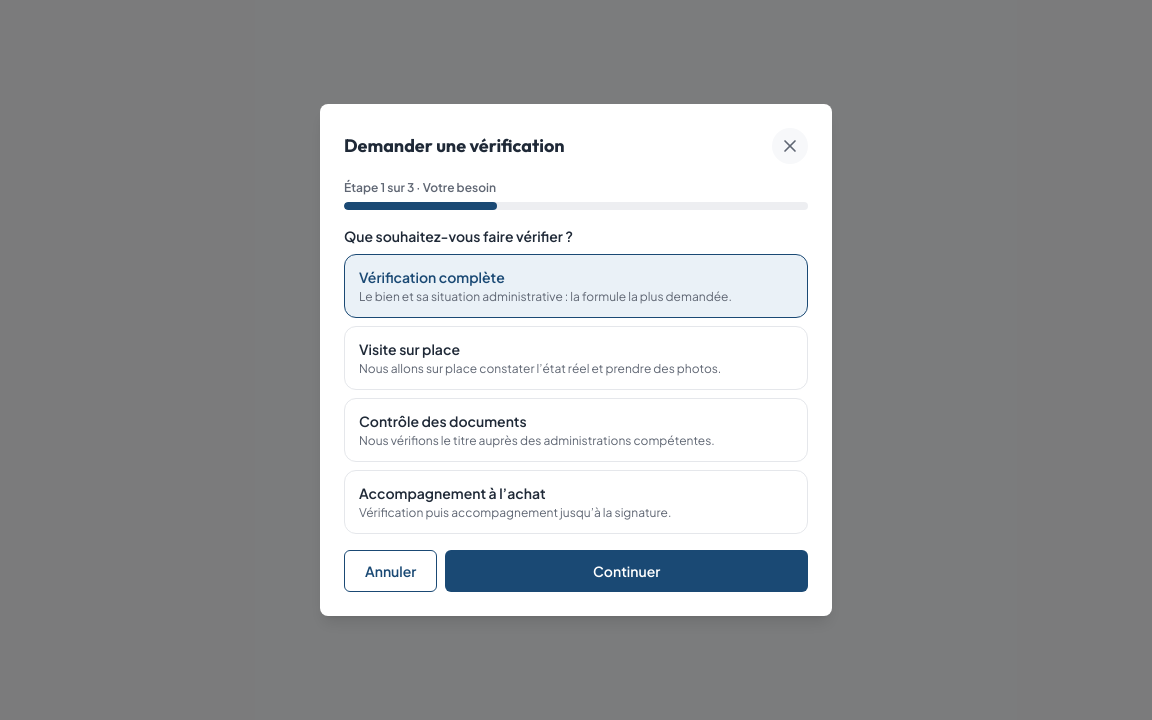
Test case: NewMissionModal (assistant en trois étapes) › permet de revenir en arrière sans perdre la saisie
Click the button "Continuer". click: (627, 571)
box: [445,550,808,592]
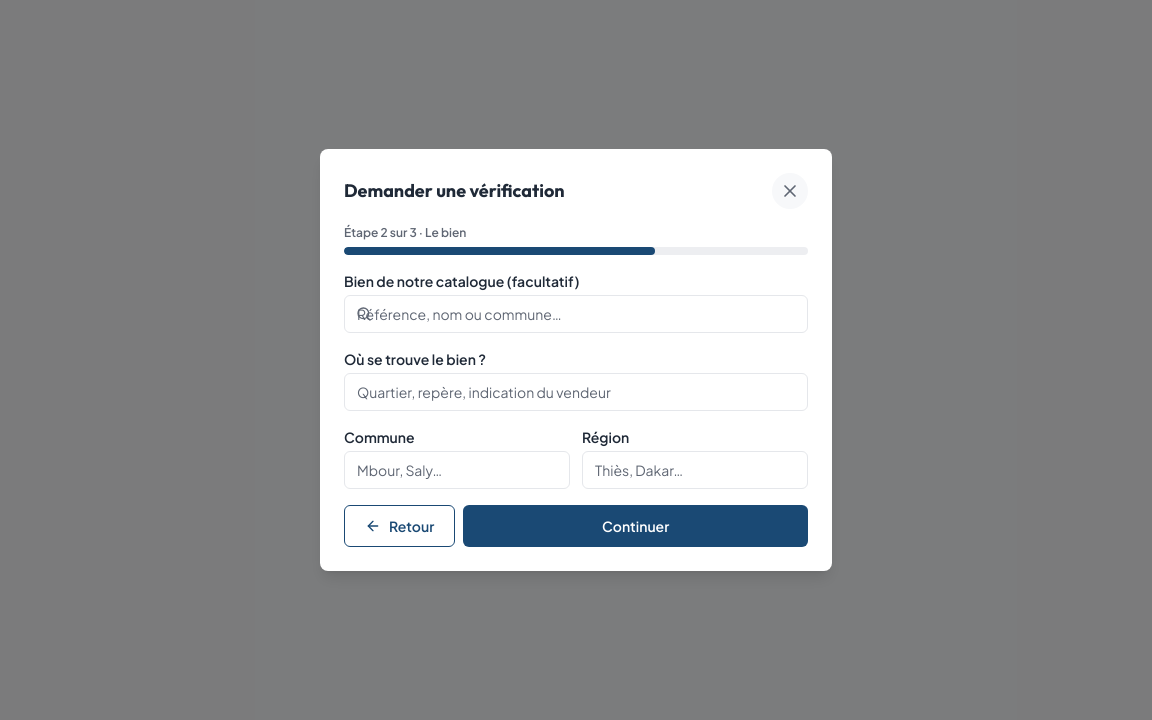
Type "Saly, près du rond-point" into the field labelled "Où se trouve le bien ?". click: (576, 392)
box: [344,373,808,411]
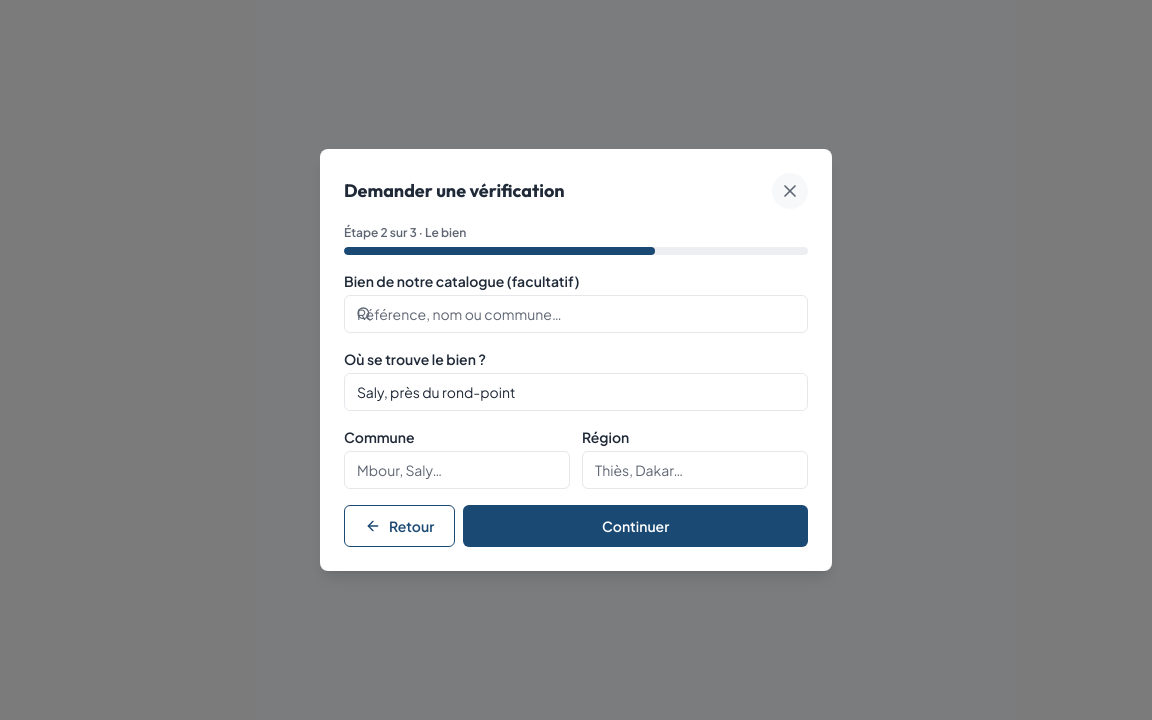
Click the button "Continuer". click: (636, 526)
box: [463,505,808,547]
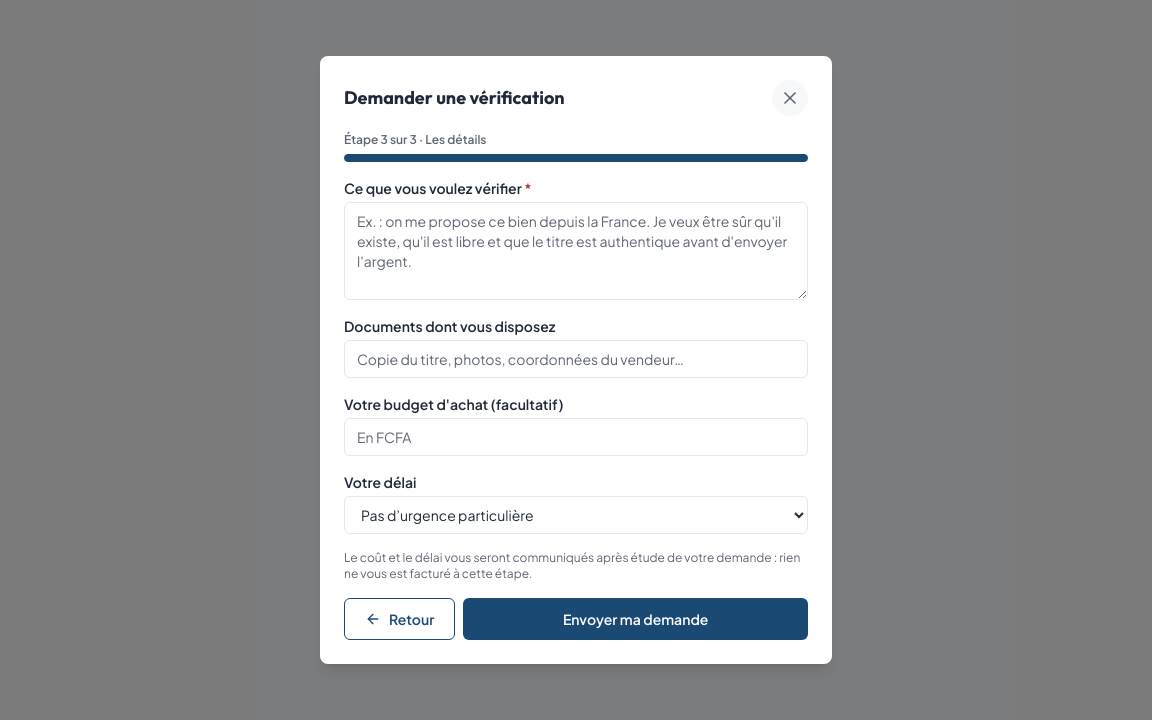
Click the button "Retour". click: (400, 619)
box: [344,598,455,640]
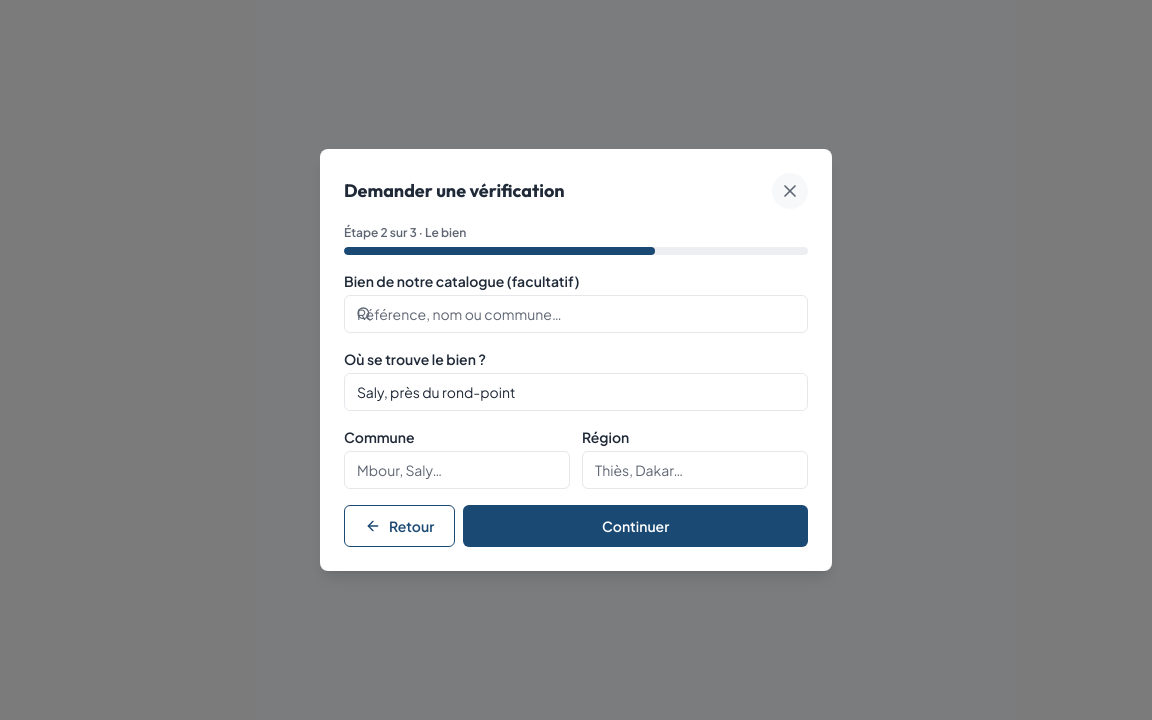
expect the field labelled "Où se trouve le bien ?" holds "Saly, près du rond-point": met, box [344,373,808,411]
